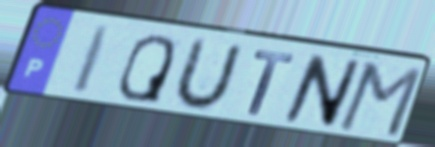I: (68, 23, 116, 99)
M: (334, 59, 427, 140)
N: (279, 51, 365, 131)
Q: (115, 32, 178, 106)
T: (245, 48, 297, 118)
U: (168, 35, 247, 114)
